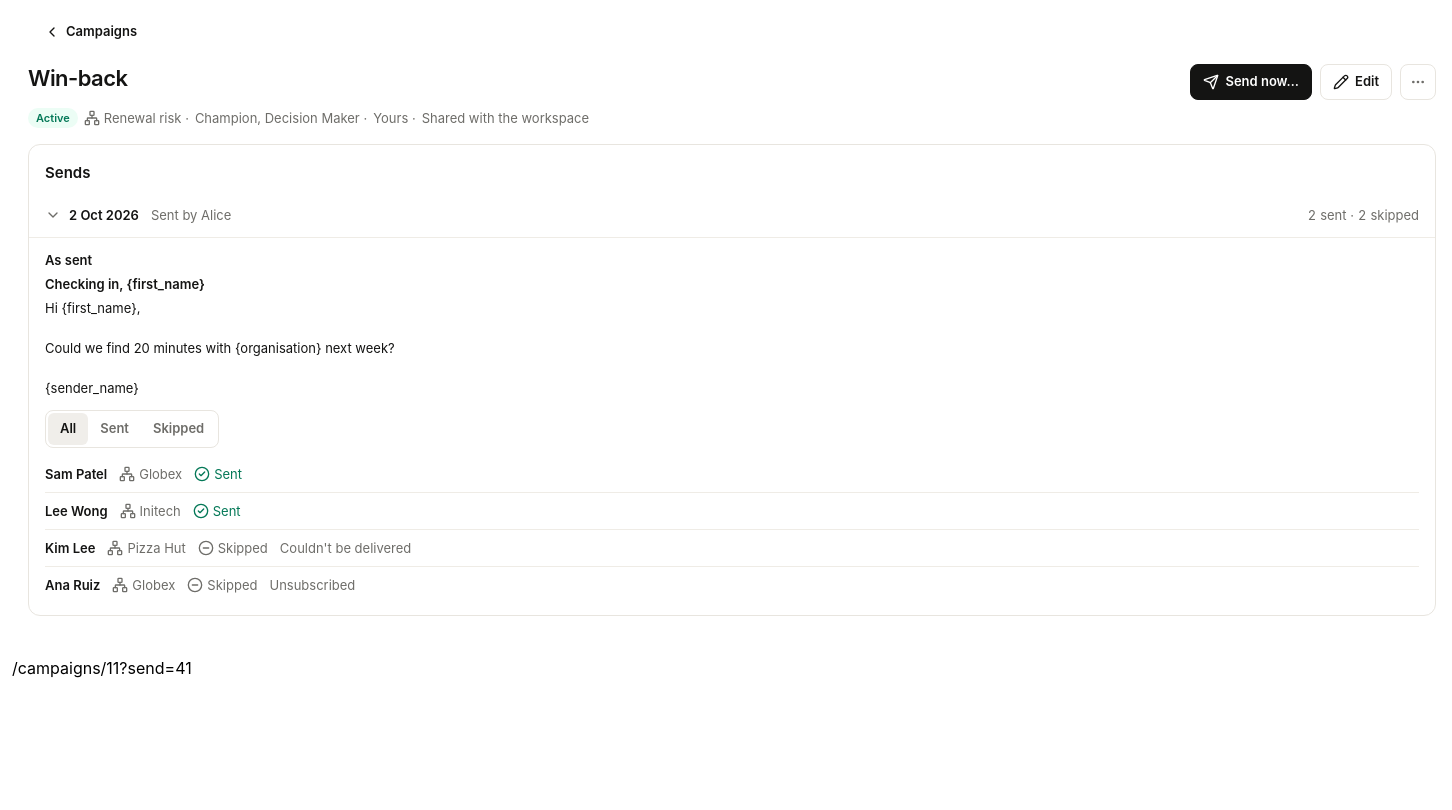
Test: a campaign's sends (spec §2.3) › filters by Sent or Skipped, and by a reason only with Skipped
expect the dropdown labelled "Reason" is not shown: met
Click the button "Skipped" at (179, 429), box left=141, top=413, right=216, bottom=445
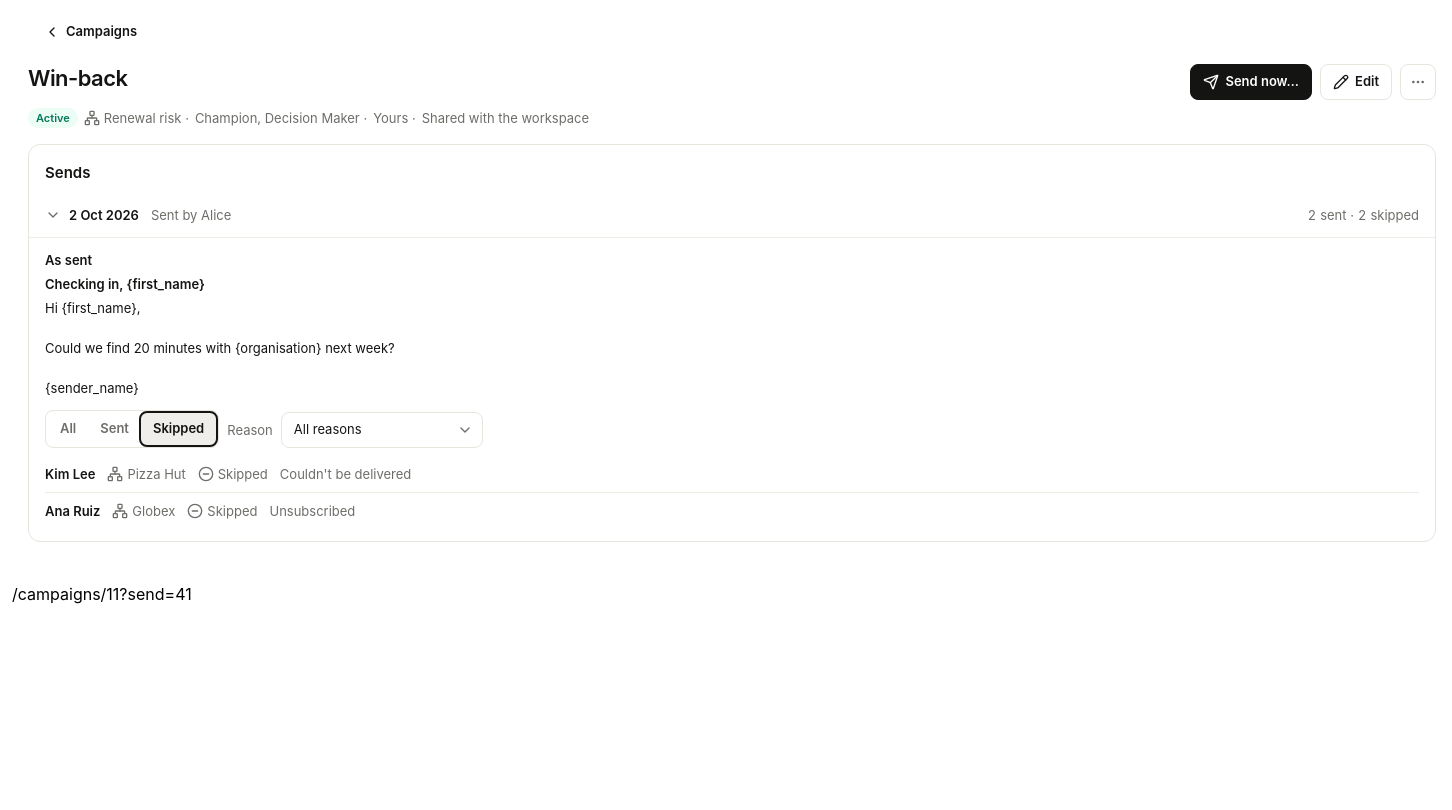
Select "Unsubscribed" in the dropdown labelled "Reason" at (382, 430), box left=281, top=412, right=483, bottom=448
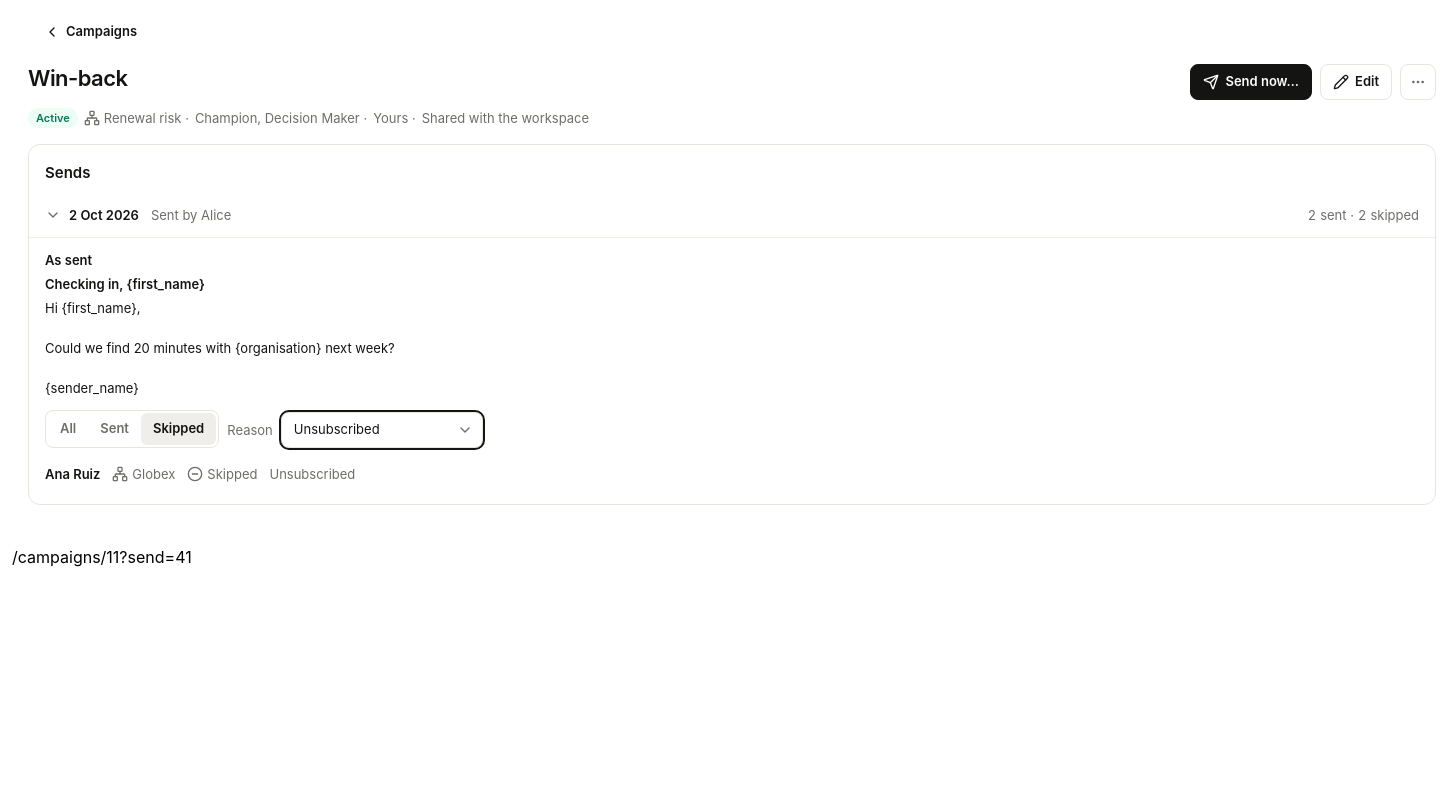
expect the text "skipped" is shown: met, box left=1370, top=205, right=1419, bottom=225
Click the button "Sent" at (115, 429), box left=88, top=413, right=141, bottom=445
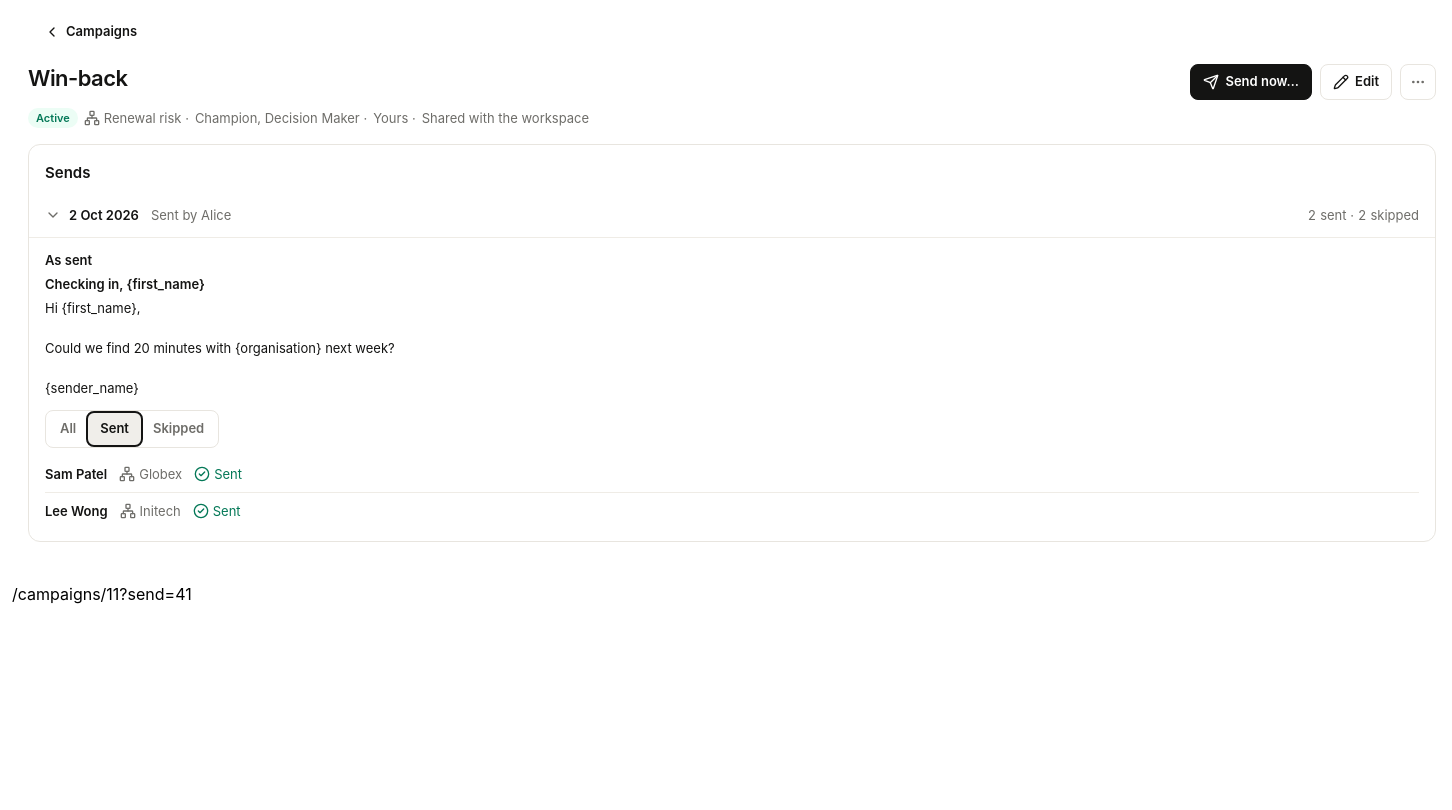
expect the label "Reason" is gone: met
